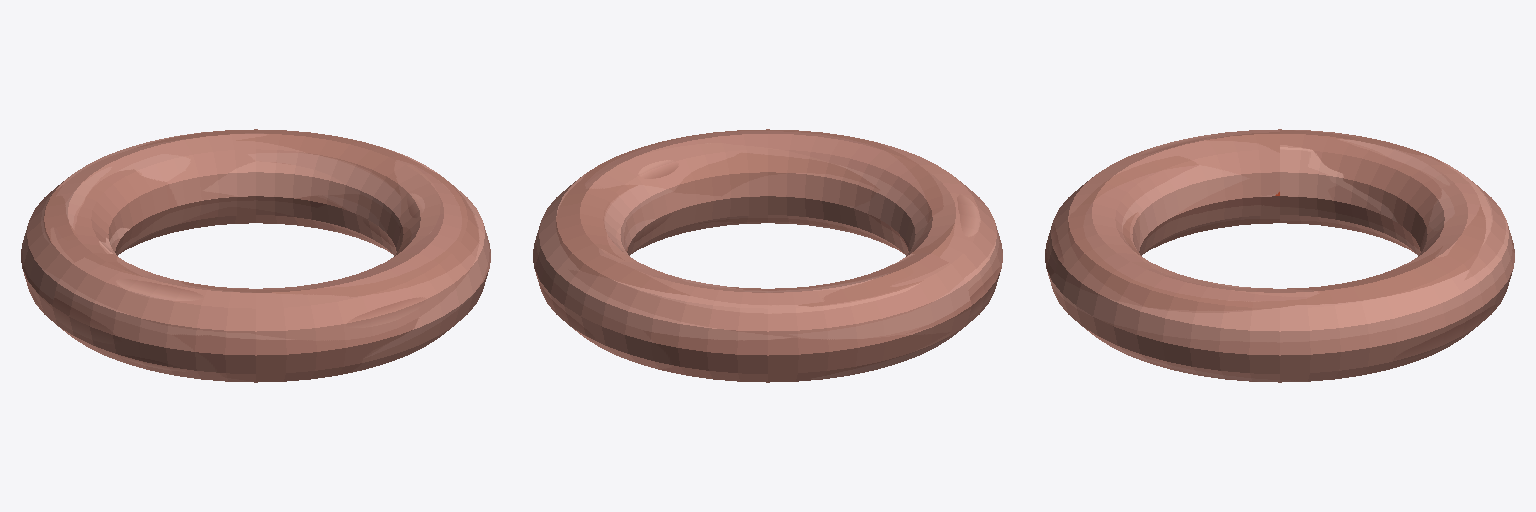
3 views of the same model, side by side, from view 1: azimuth 30°, elevation 25°; view 2: azimuth 150°, elevation 25°; view 3: azimuth 270°, elevation 25° (orthographic).
Parts seen in each view (by area): view 1: Torus; view 2: Torus; view 3: Torus.
Part boxes in pixels (x1,y1,x2,y2): Torus: (21,129,490,382); Torus: (533,129,1002,382); Torus: (1045,129,1514,382).
Bounding box in the file's own units: 2.5 × 0.5 × 2.5.
1 materials, 1 textured.